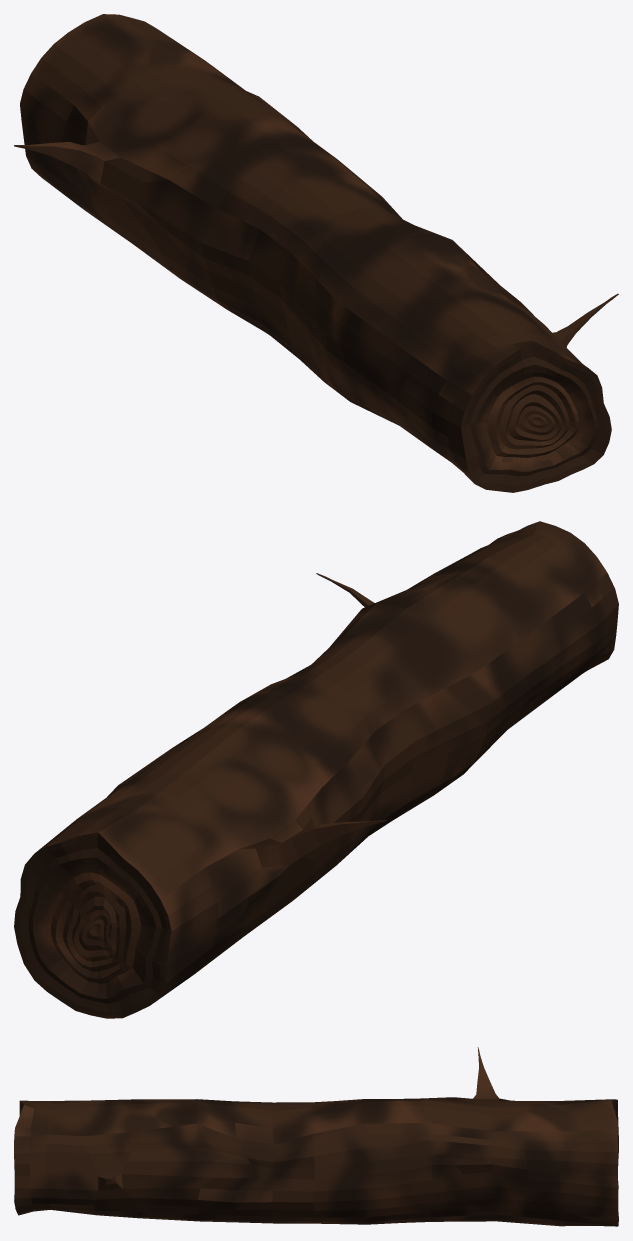
The model's file is Trunk.fbx.
The picture shows the model from 3 angles, top to bottom: view 1: azimuth 30°, elevation 25°; view 2: azimuth 150°, elevation 25°; view 3: azimuth 270°, elevation 25°; orthographic projection. The views are drawn at different scales.
Visible parts, largest first — view 1: Cylinder; view 2: Cylinder; view 3: Cylinder.
Boxes of the visible parts, x1,y1,x2,y2 form: Cylinder: [14, 14, 618, 492]; Cylinder: [14, 521, 618, 1018]; Cylinder: [14, 1047, 618, 1226].
Bounding box in the file's own units: 412 × 209 × 944.
